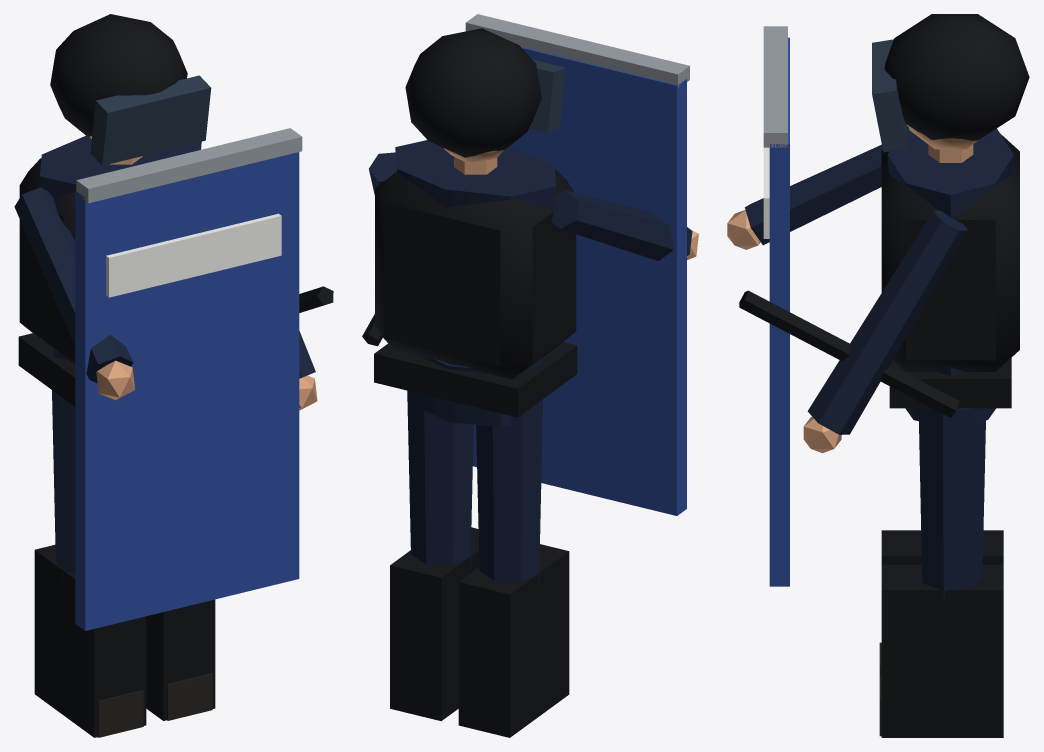
Rendered from police_officer.fbx.
The picture shows the model from 3 angles, left to right: view 1: azimuth 30°, elevation 25°; view 2: azimuth 150°, elevation 25°; view 3: azimuth 270°, elevation 25°; orthographic projection. The views are drawn at different scales.
Visible parts, largest first — view 1: police_officer; view 2: police_officer; view 3: police_officer.
Part boxes in pixels (x1=…): police_officer: x1=14, y1=14, x2=333, y2=737; police_officer: x1=362, y1=14, x2=698, y2=737; police_officer: x1=727, y1=14, x2=1029, y2=737.
Size of the model in its own units: 0.7409 by 1.87 by 0.7428.
